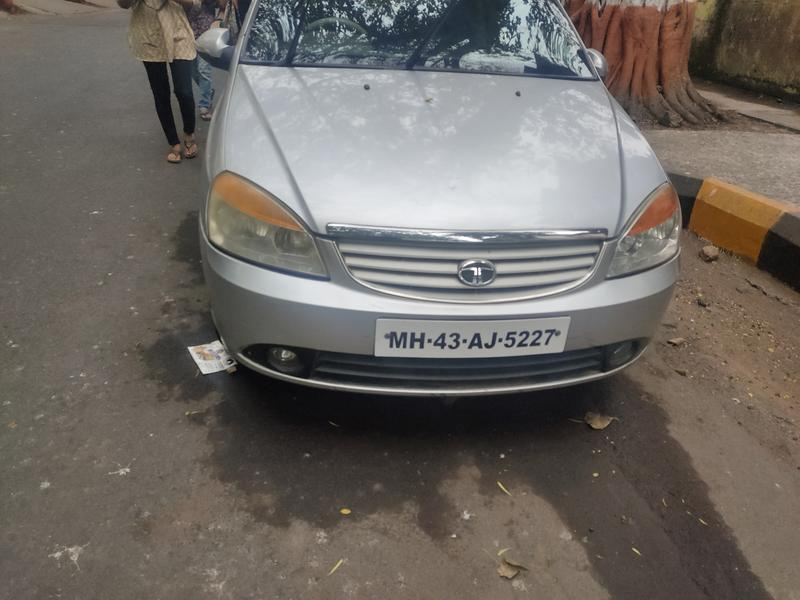license_plate: (367, 313, 575, 366)
